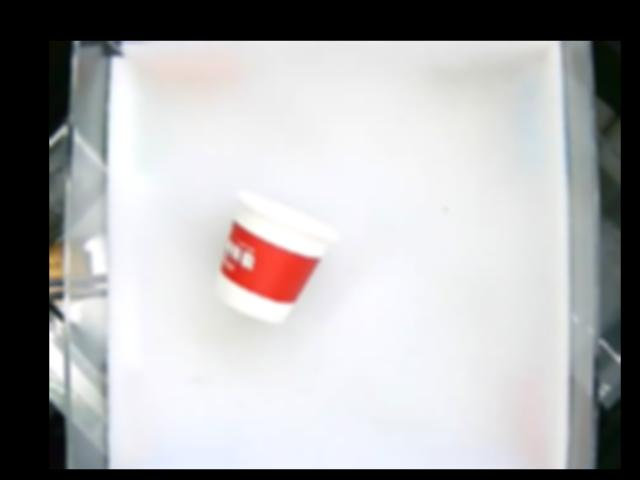Cup: (214, 188, 333, 326)
